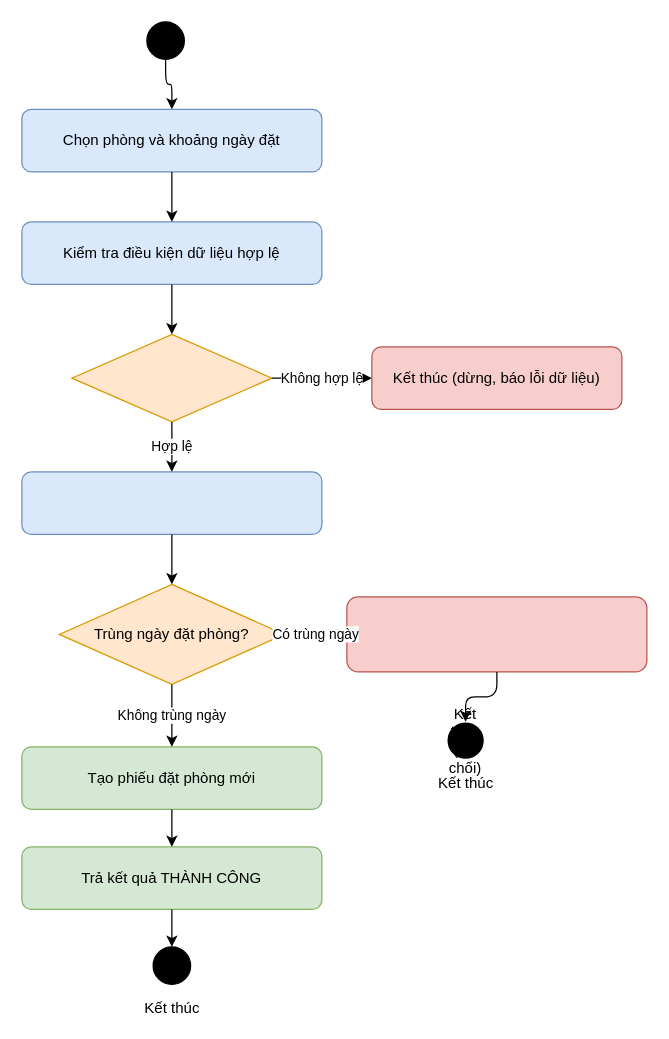
Some shapes in this 669 by 1039 pixel diagram are drawn without their labels. Here are the shapes that lost their labels. From the top down, the centre of each, then its label:
(171,377): Dữ liệu hợp lệ?
(171,502): Kiểm tra trùng ngày trên phòng đã chọn
(496,634): Từ chối đặt phòng Thông báo lỗi: "Trùng ngày đặt phòng"
